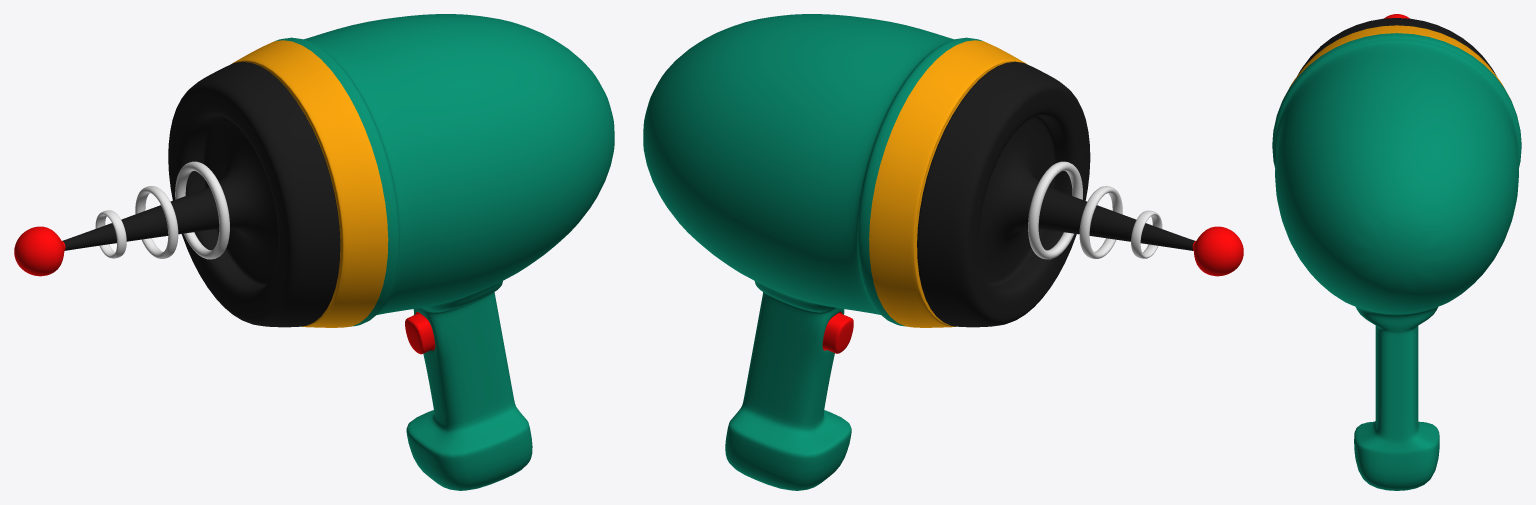
The model's file is lazer_silah.fbx.
3 views of the same model, side by side, from view 1: azimuth 30°, elevation 25°; view 2: azimuth 150°, elevation 25°; view 3: azimuth 270°, elevation 25° (orthographic). The views are drawn at different scales.
Visible parts, largest first — view 1: Sphere; view 2: Sphere; view 3: Sphere.
Part boxes in pixels (x1,y1,x2,y2): Sphere: [14, 14, 614, 490]; Sphere: [643, 14, 1243, 490]; Sphere: [1272, 14, 1521, 490].
Size of the model in its own units: 543 by 417 by 244.
